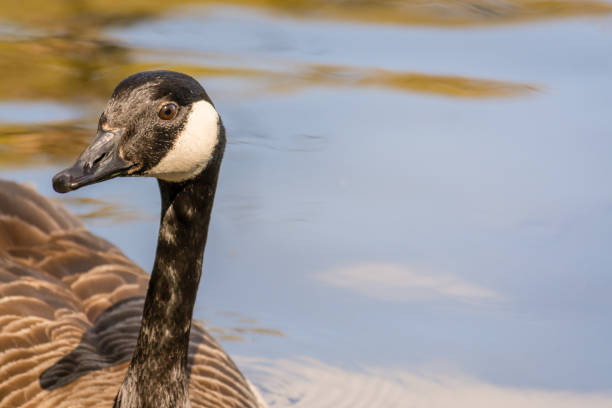goose: (1, 60, 269, 408)
